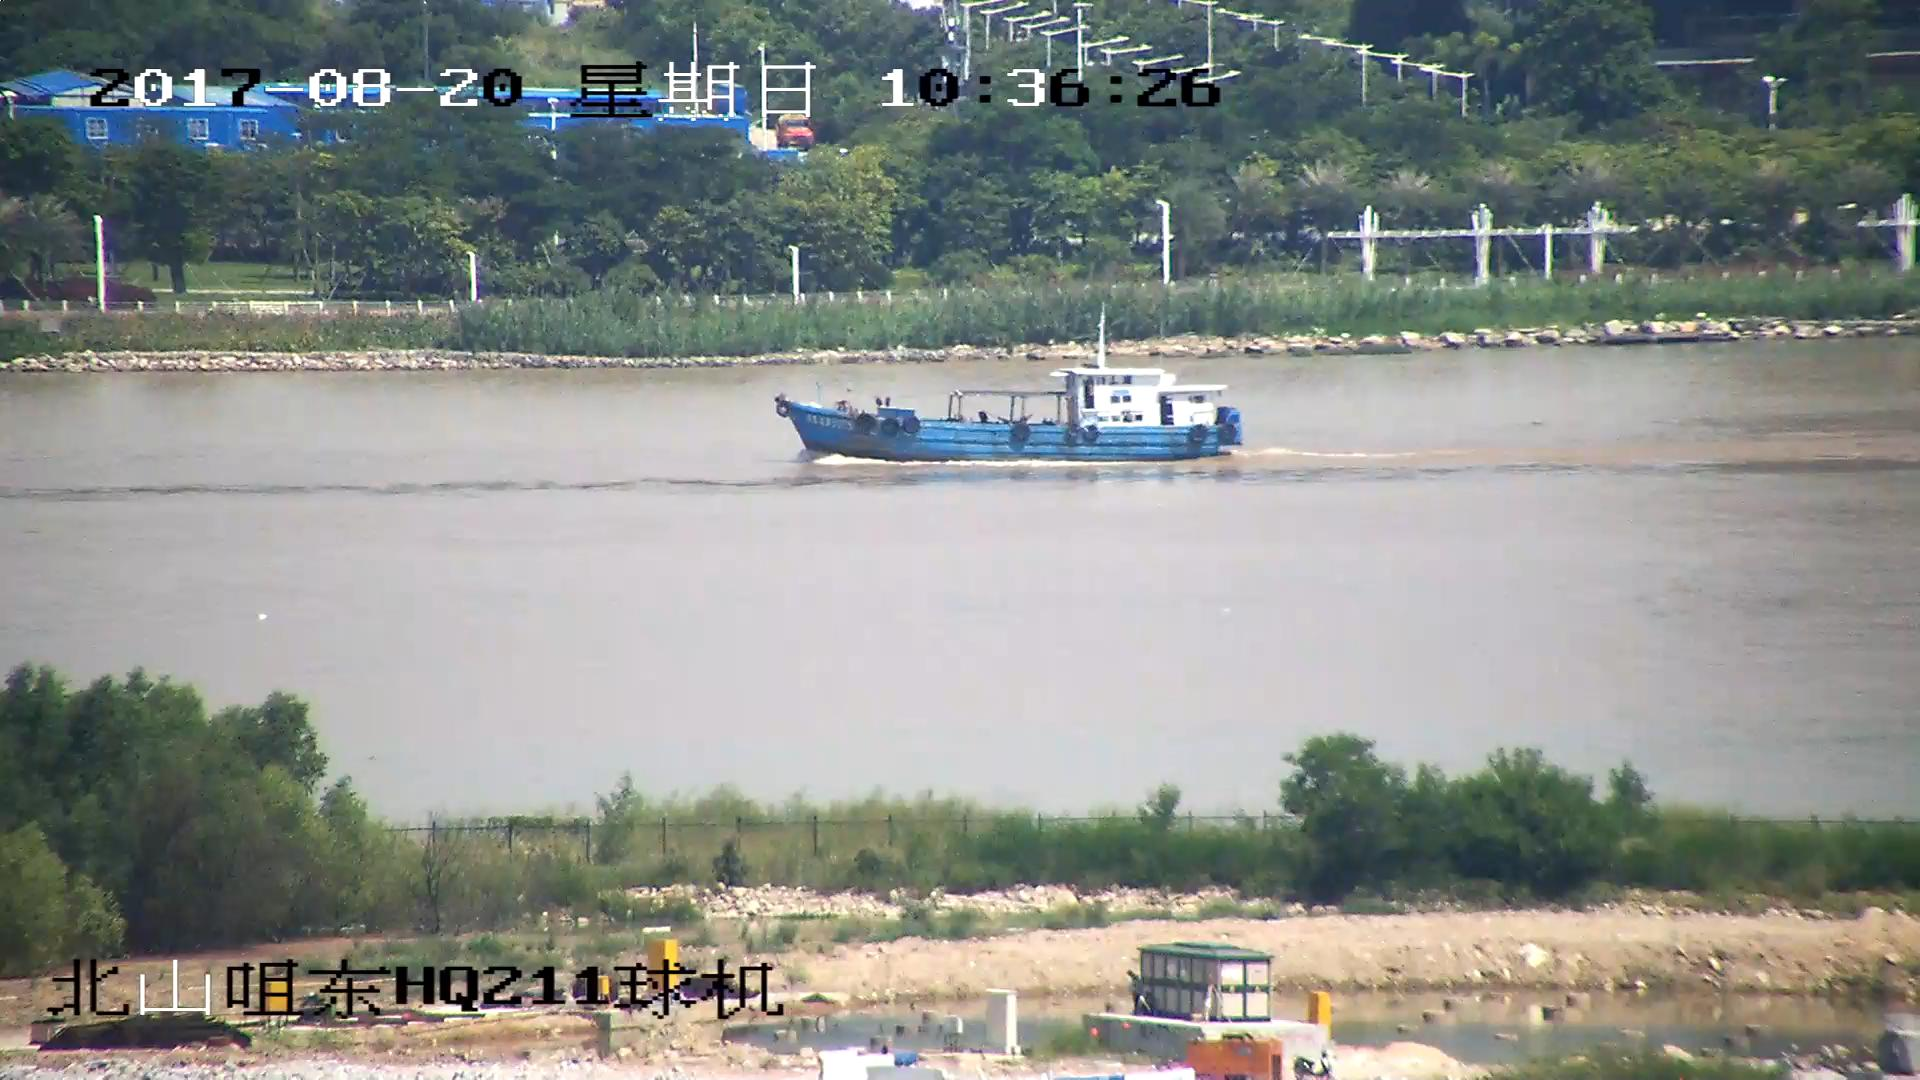fishing boat: (779, 304, 1245, 465)
